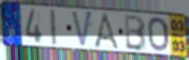4: (24, 8, 44, 45)
A: (93, 12, 122, 51)
B: (124, 14, 148, 52)
I: (48, 9, 58, 46)
O: (146, 16, 170, 53)
V: (70, 10, 94, 50)
